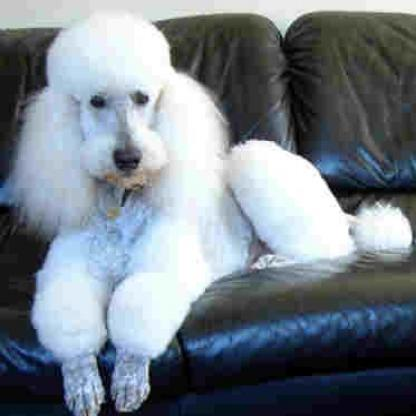standard_poodle: (0, 7, 409, 413)
